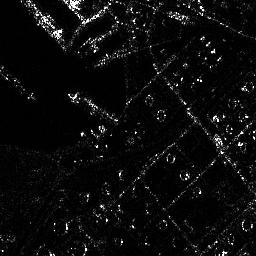ship: (19, 1, 67, 50), (65, 91, 115, 125), (1, 65, 37, 101)
